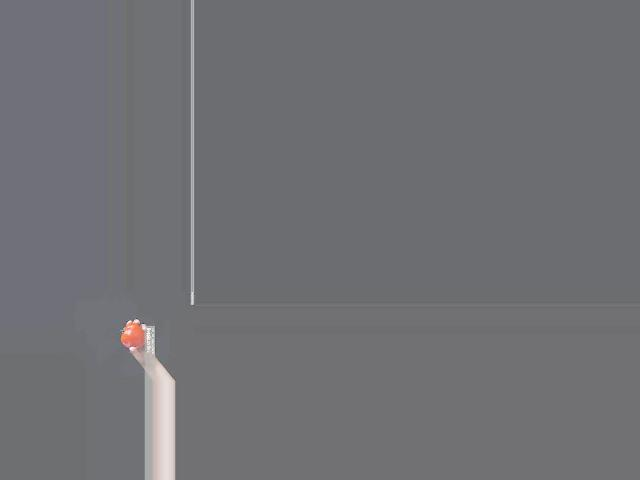tomato: (120, 322, 145, 347)
